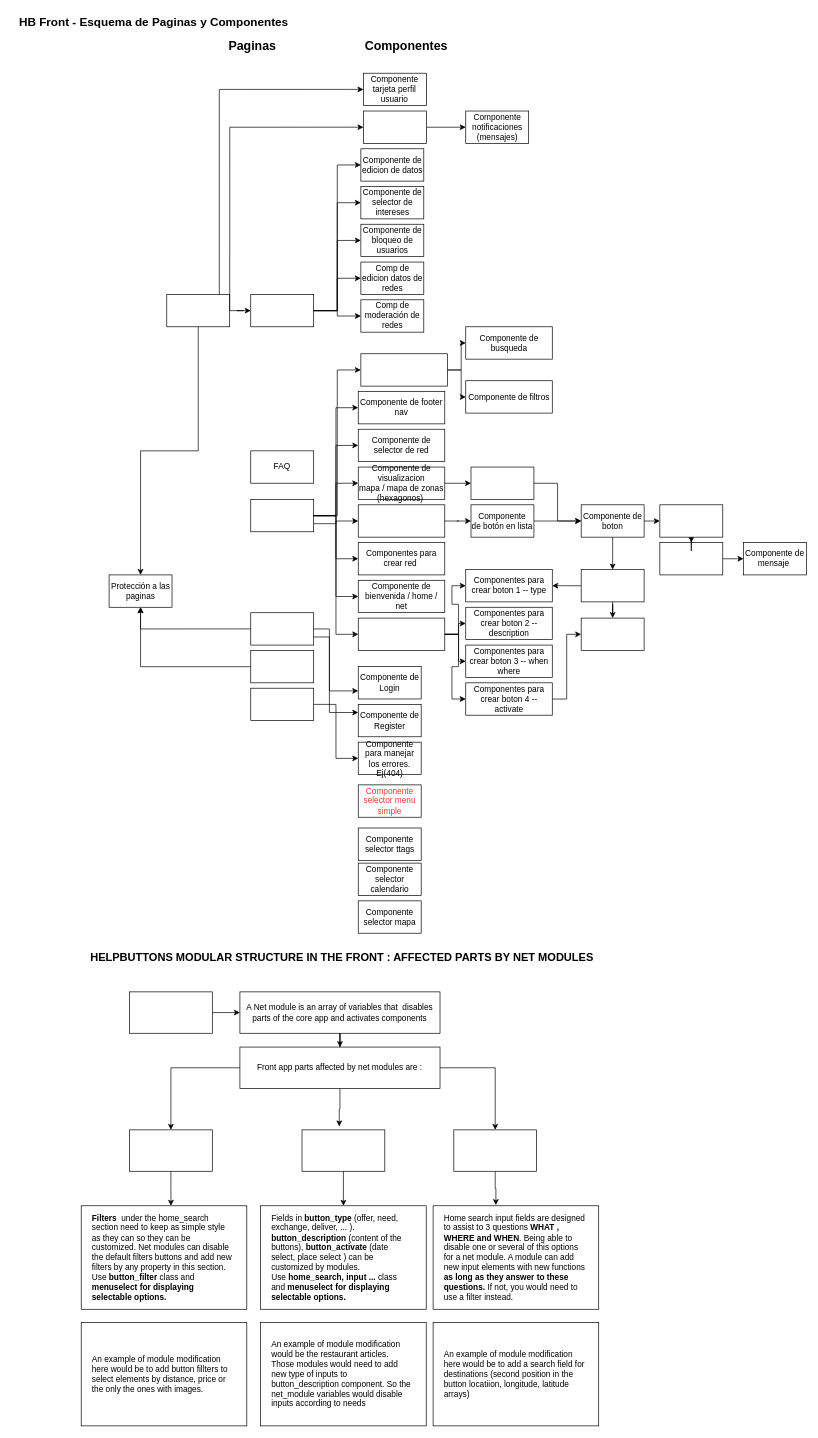
The diagram is 818 pixels wide and 1438 high, and some of its shapes have lost their labels. Here are the shapes that lost their labels. From the top down, the centre of each, then its label:
At point 394,126: "Componente lista notificaciones (mensajes)".
At point 198,310: "Perfil de usuario".
At point 282,310: "Edicion de perfil".
At point 403,369: "Componente de header nav".
At point 502,482: "Componente de botón en mapa".
At point 282,515: "Home".
At point 401,520: "Componente visualizacion en lista".
At point 691,520: "Componente de chat-card".
At point 691,558: "Componente de chat".
At point 612,585: "Componente para menu / editar boton".
At point 282,628: "Login y Register".
At point 401,633: "Componentes para crear boton".
At point 612,633: "Componente para compartir boton".
At point 282,666: "Edición de botón o red".
At point 282,704: "Paginas de errores".
At point 170,1012: "NEW nets types may have new net modules".
At point 170,1150: "Button filtering".
At point 343,1150: "Button creation".
At point 495,1150: "Button search".
